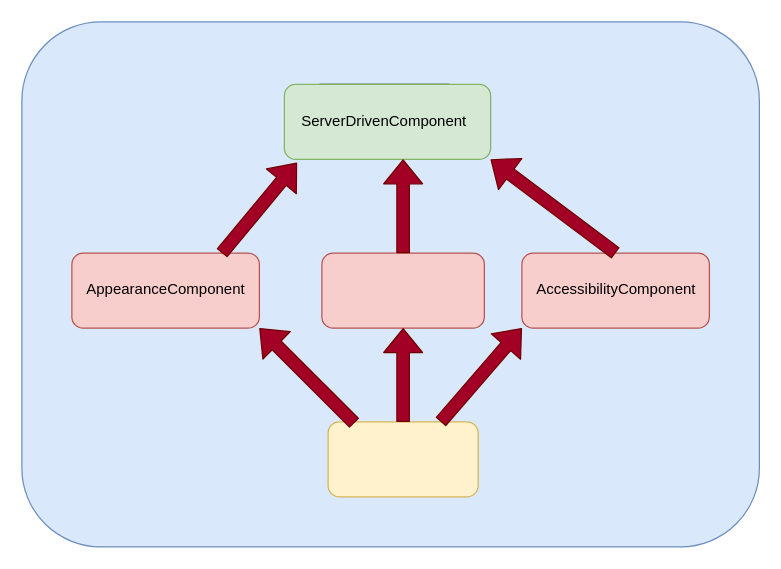
Image size: 781x569. Some labels were removed from this diagram. Each missing label, with the centre of its shape:
"FlexComponent" belongs at (402,290).
"Widget" belongs at (402,459).
